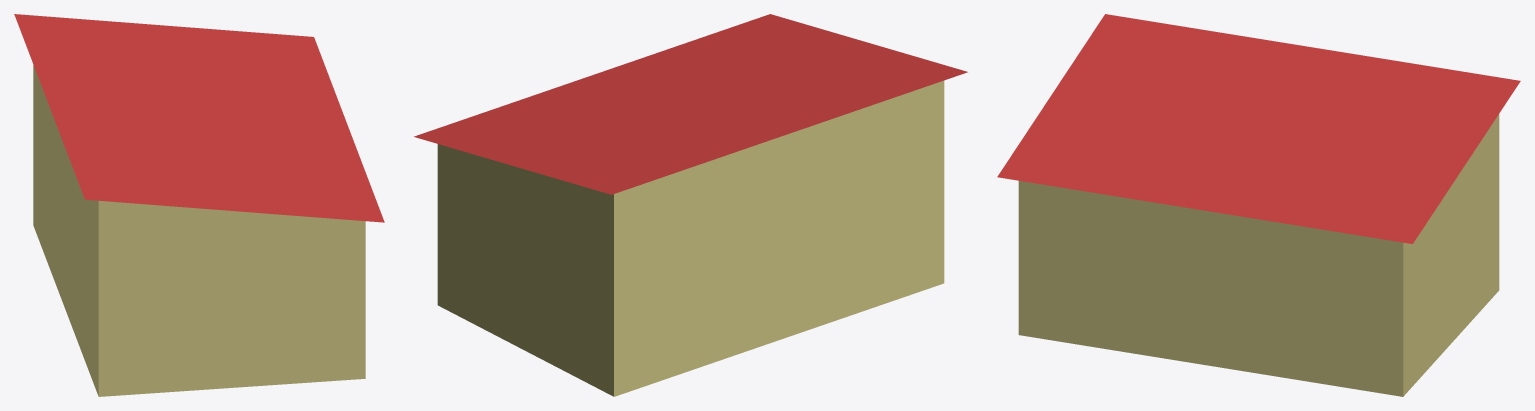
3 renders of one model, left to right at view 1: azimuth 30°, elevation 25°; view 2: azimuth 150°, elevation 25°; view 3: azimuth 270°, elevation 25°, orthographic. The views are drawn at different scales.
Size of the model in its own units: 19.95 by 23.63 by 10.22.
